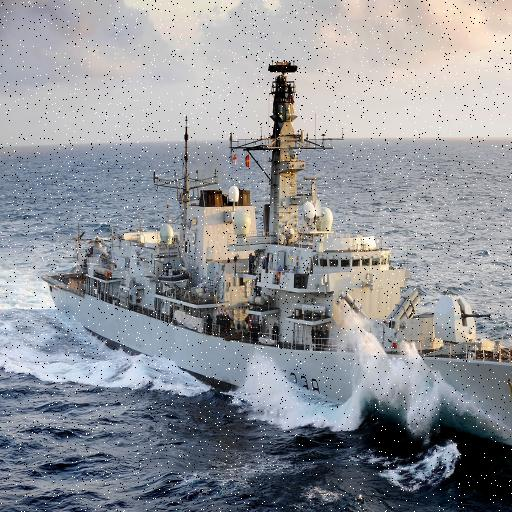Fragata: (1, 46, 397, 485)
